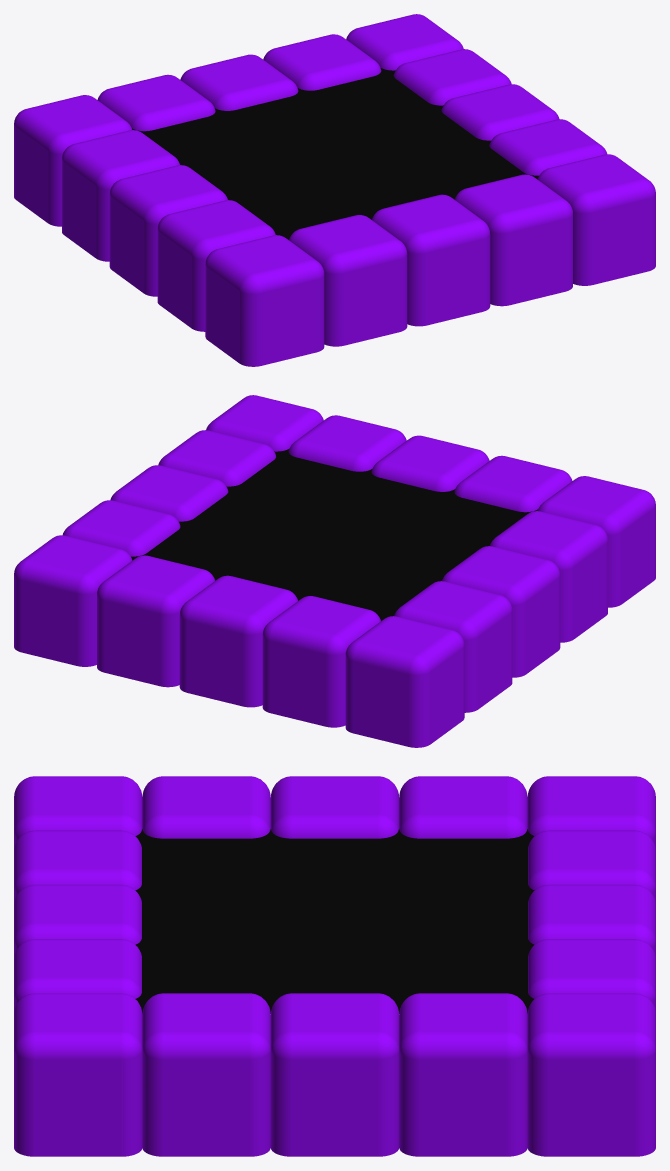
The model's file is trambolin kare.fbx.
3 views of the same model, one above another, from view 1: azimuth 30°, elevation 25°; view 2: azimuth 150°, elevation 25°; view 3: azimuth 270°, elevation 25° (orthographic). The views are drawn at different scales.
Visible parts, largest first — view 1: trambolin v6; view 2: trambolin v6; view 3: trambolin v6.
Boxes of the visible parts, <box> form: trambolin v6: <box>14,14,655,366</box>; trambolin v6: <box>14,395,655,747</box>; trambolin v6: <box>14,776,655,1156</box>.
Bounding box in the file's own units: 15 × 3 × 15.
